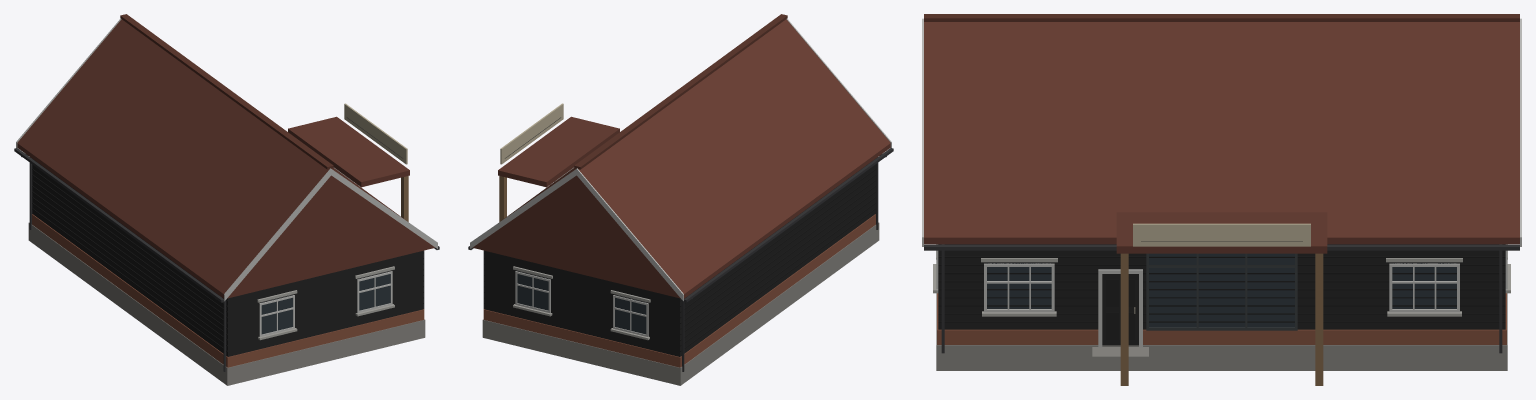
The model's file is SM_Prop_cafe_building_11.glb.
3 renders of one model, left to right at view 1: azimuth 30°, elevation 25°; view 2: azimuth 150°, elevation 25°; view 3: azimuth 270°, elevation 25°, orthographic. The views are drawn at different scales.
Parts seen in each view (by area): view 1: SM_Prop_cafe_building_11; view 2: SM_Prop_cafe_building_11; view 3: SM_Prop_cafe_building_11.
Part boxes in pixels (x1,y1,x2,y2): SM_Prop_cafe_building_11: [14, 14, 439, 385]; SM_Prop_cafe_building_11: [468, 14, 893, 385]; SM_Prop_cafe_building_11: [922, 14, 1521, 385].
Size of the model in its own units: 10.62 by 7.77 by 14.8.
